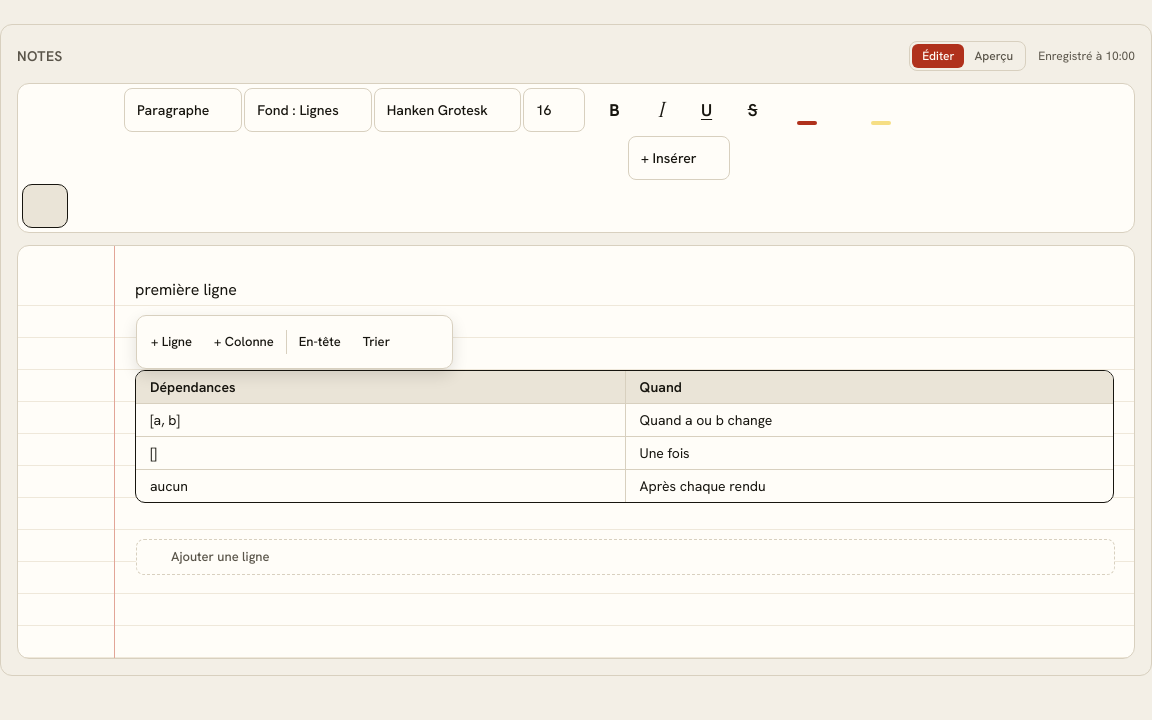
Test case: tables in a note (YC-51) › its bar, Figma 65:2071 › in « Aperçu », there is no bar
Expected: the field named "Note de la vidéo" shows "première", left=135, top=279, right=1114, bottom=503
Click the button "Aperçu" at (994, 56), box left=964, top=44, right=1023, bottom=68
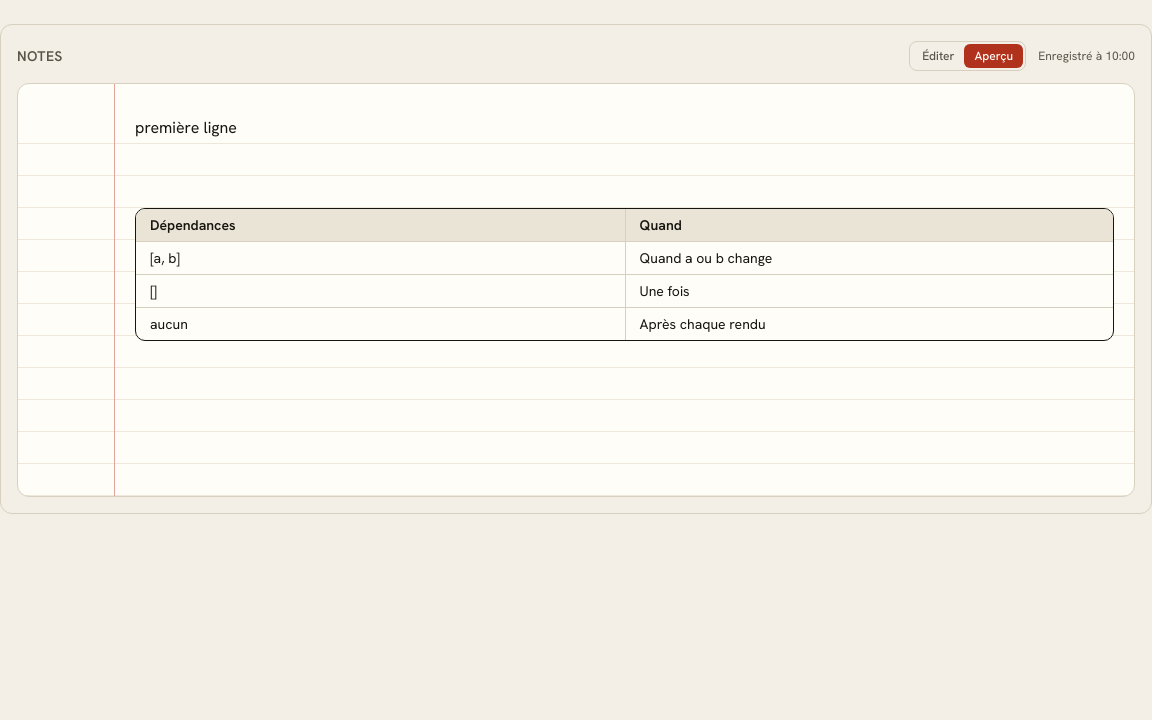
Expected: the button "Tableau" is gone
